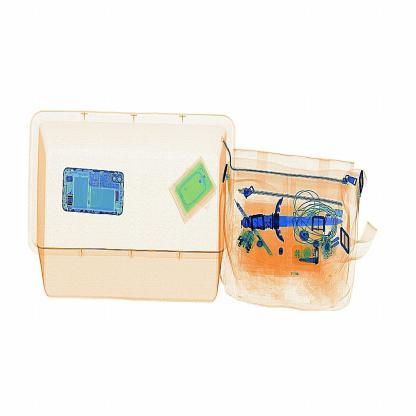wrench: (240, 195, 345, 245)
